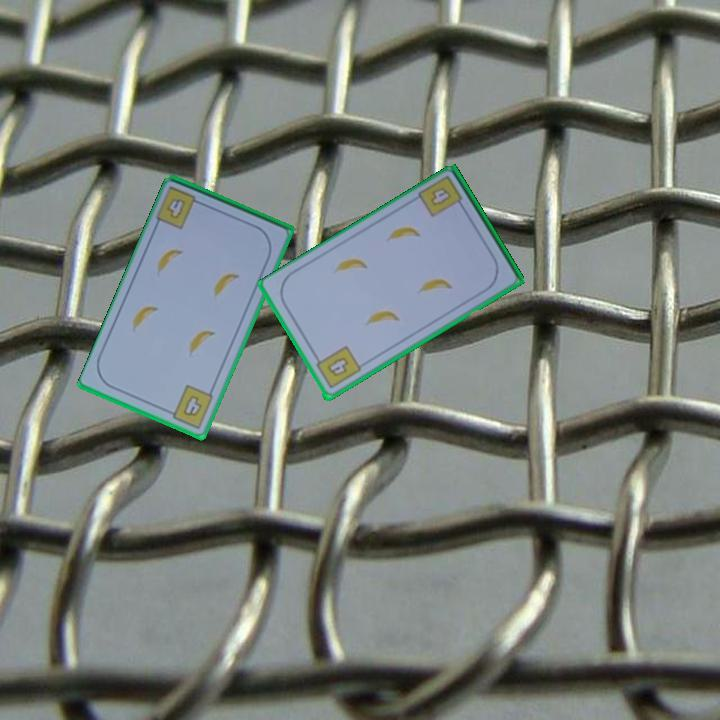4b: (163, 381, 216, 432), (311, 343, 364, 392), (163, 195, 189, 222), (427, 184, 454, 209)
